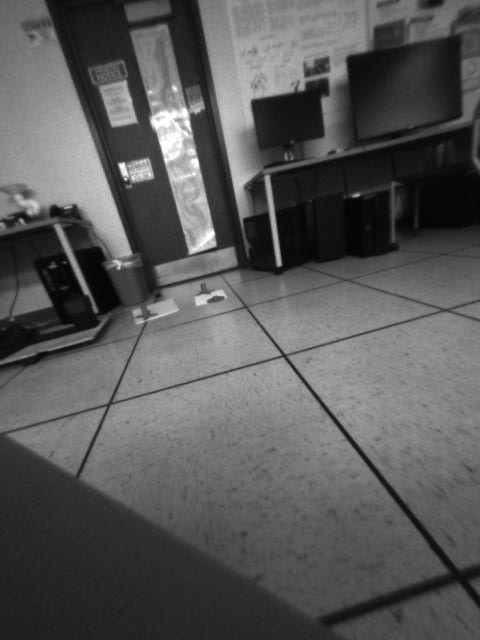X: (130, 301, 159, 323), (192, 281, 208, 295)
